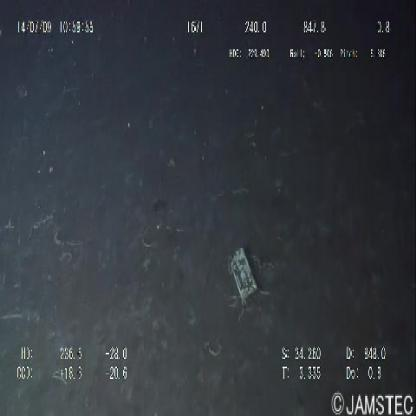Rác: (232, 246, 257, 302)
